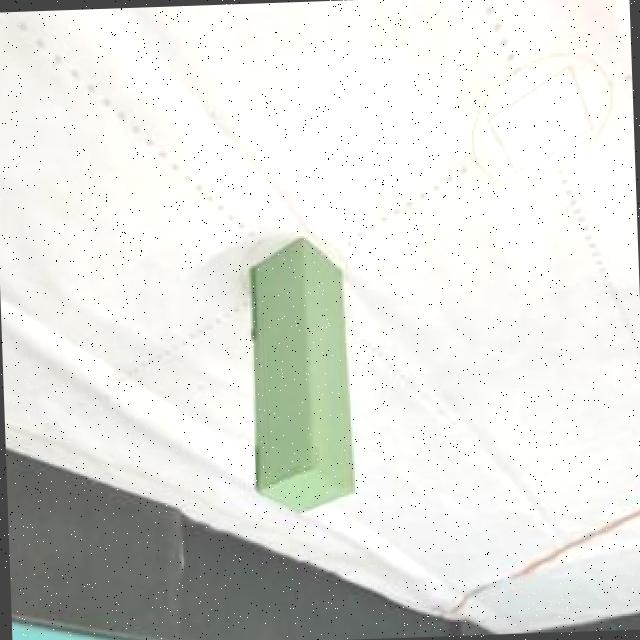greenbox: (245, 243, 356, 510)
